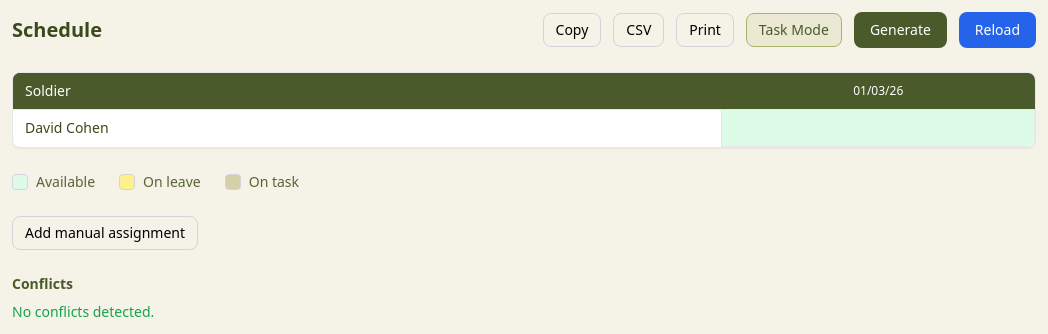
Test: SchedulePage › shows Copied! confirmation after WhatsApp copy
The width and height of the screenshot is (1048, 334).
Click the button "Copy".
click(572, 30)  # box [542,13,601,47]
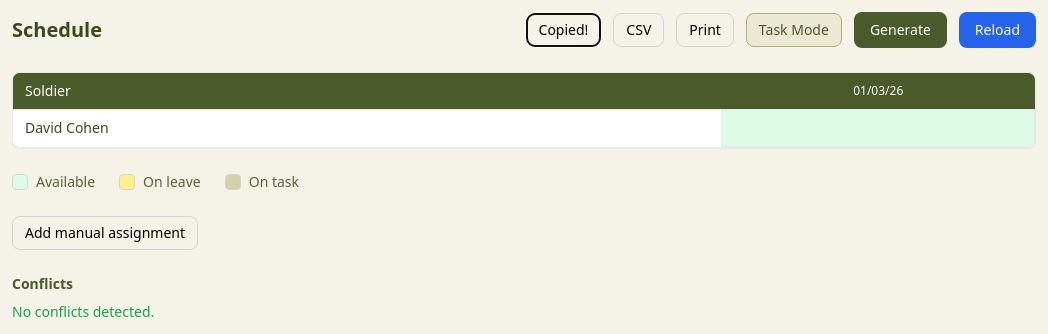
Now the button "Copied!" is shown, box [526,13,601,47]
